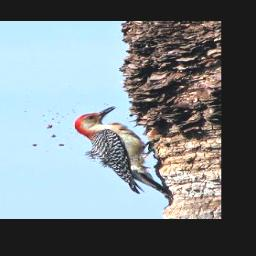Woodpecker: (72, 105, 175, 199)
